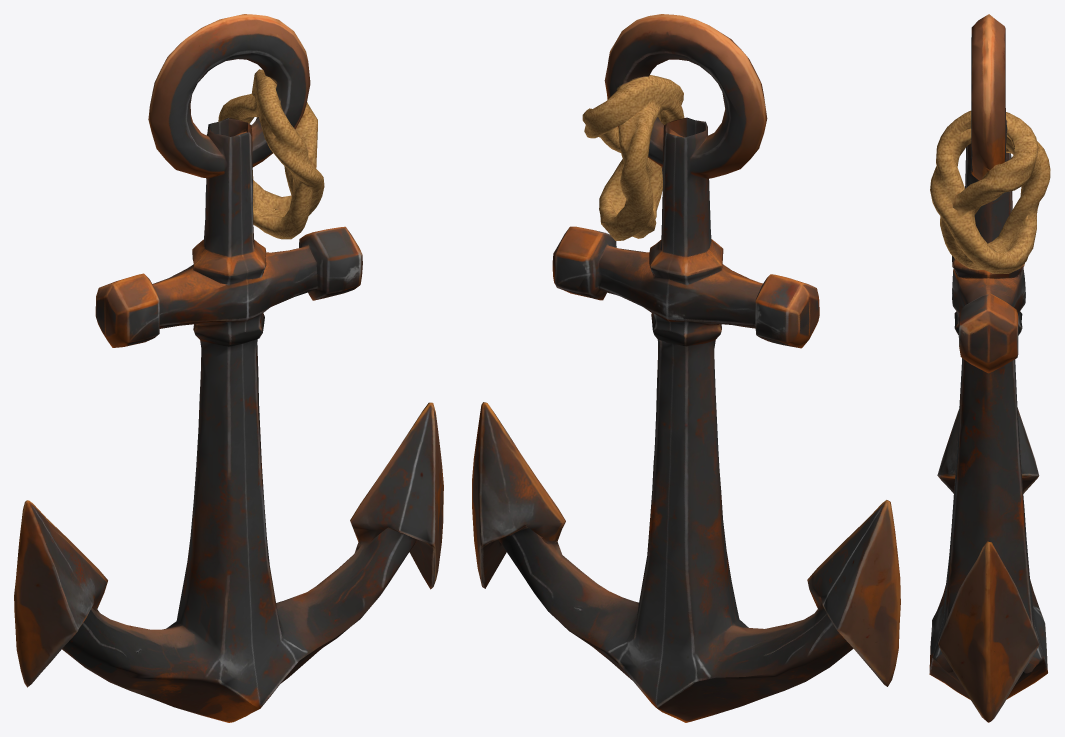
Rendered from anchor.glb.
3 renders of one model, left to right at view 1: azimuth 30°, elevation 25°; view 2: azimuth 150°, elevation 25°; view 3: azimuth 270°, elevation 25°, orthographic. The views are drawn at different scales.
Visible parts, largest first — view 1: world; view 2: world; view 3: world.
Boxes of the visible parts, x1=… form: world: x1=14, y1=14, x2=443, y2=722; world: x1=472, y1=14, x2=900, y2=722; world: x1=929, y1=14, x2=1050, y2=722.
Bounding box in the file's own units: 0.6281 × 0.9876 × 0.1579.
Materials: 1 (1 with a texture image).
